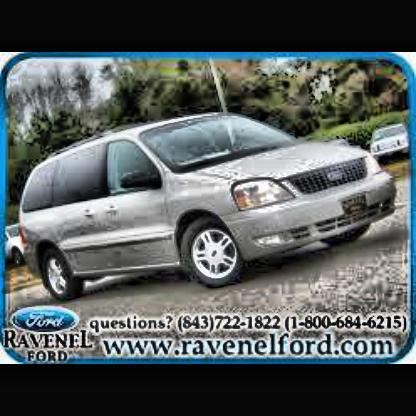Ford Freestar Minivan 2007: (16, 110, 403, 304)
